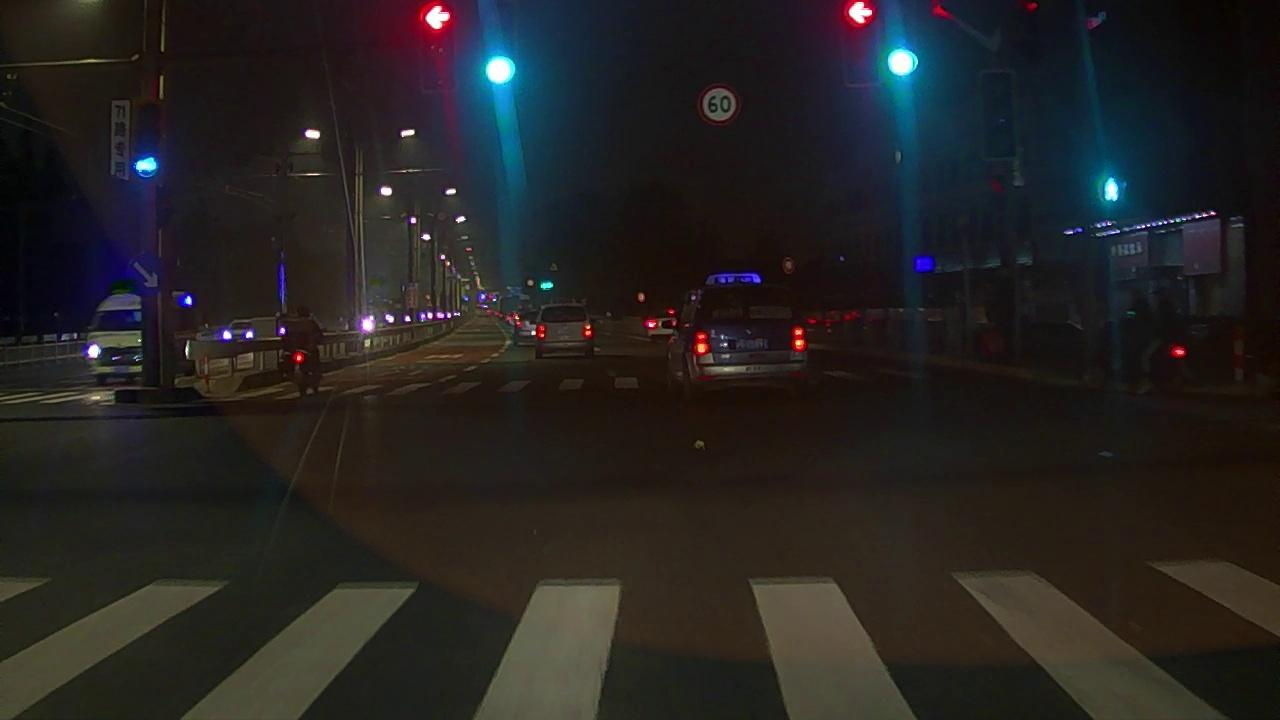traffic_light: (482, 2, 517, 86), (422, 3, 452, 88), (844, 3, 875, 82), (885, 2, 916, 80)
